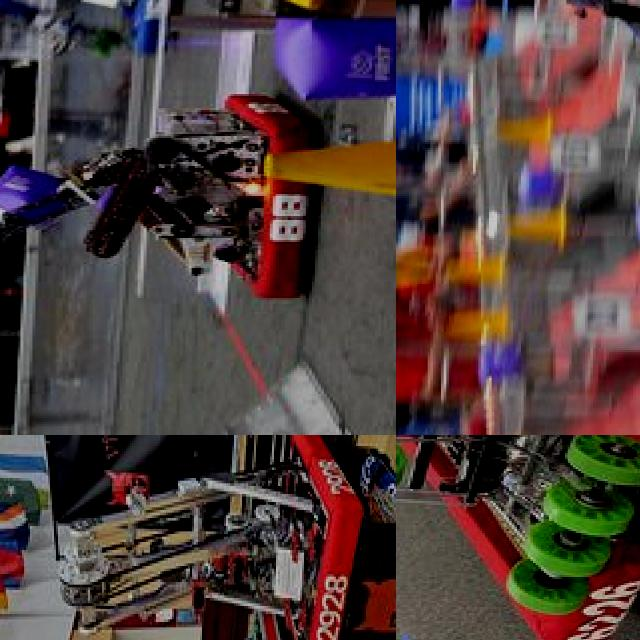FRC-Robots: (0, 89, 323, 313), (48, 435, 360, 640), (396, 435, 640, 640), (536, 0, 640, 145)
